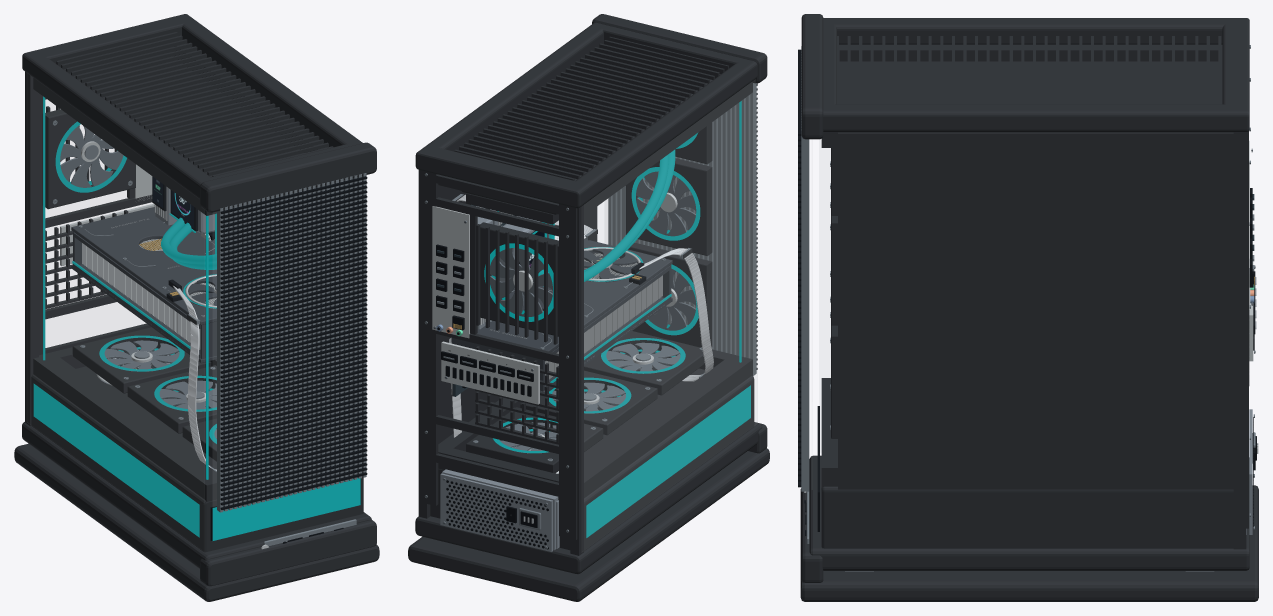
Rendered from showcase92-stealth.glb.
3 views of the same model, side by side, from view 1: azimuth 30°, elevation 25°; view 2: azimuth 150°, elevation 25°; view 3: azimuth 270°, elevation 25° (orthographic). The views are drawn at different scales.
Visible parts, largest first — view 1: s83-surface-44a6985b-c14b-43e6-8af2-84a97b06a821, s83-surface-48ced353-55f2-4abd-bf50-ffc865df163e, s83-fan-11, s83-fan-8, s83-fan-9, s83-fan-4, s83-surface-2fc91529-6f33-4e44-a186-73924e65df84; view 2: s83-surface-44a6985b-c14b-43e6-8af2-84a97b06a821, s83-surface-b59e28b9-7a2c-4e11-b53a-ddb55e978ee2, s83-surface-48ced353-55f2-4abd-bf50-ffc865df163e, s83-fan-13, s83-fan-11, s83-fan-10, s83-fan-12, s83-fan-4, s83-fan-9; view 3: s83-surface-44a6985b-c14b-43e6-8af2-84a97b06a821.
Boxes of the visible parts, x1,y1,x2,y2 form: s83-surface-44a6985b-c14b-43e6-8af2-84a97b06a821: [14, 14, 379, 601]; s83-surface-48ced353-55f2-4abd-bf50-ffc865df163e: [33, 96, 360, 540]; s83-fan-11: [60, 125, 123, 187]; s83-fan-8: [104, 340, 179, 371]; s83-fan-9: [159, 380, 216, 411]; s83-fan-4: [185, 276, 216, 308]; s83-surface-2fc91529-6f33-4e44-a186-73924e65df84: [171, 190, 194, 228]; s83-surface-44a6985b-c14b-43e6-8af2-84a97b06a821: [408, 14, 769, 601]; s83-surface-b59e28b9-7a2c-4e11-b53a-ddb55e978ee2: [604, 83, 755, 375]; s83-surface-48ced353-55f2-4abd-bf50-ffc865df163e: [484, 101, 750, 537]; s83-fan-13: [636, 171, 696, 236]; s83-fan-11: [490, 248, 552, 316]; s83-fan-10: [606, 342, 680, 373]; s83-fan-12: [649, 268, 696, 330]; s83-fan-4: [584, 248, 638, 282]; s83-fan-9: [552, 382, 625, 413]; s83-surface-44a6985b-c14b-43e6-8af2-84a97b06a821: [798, 14, 1258, 601].
Size of the model in its own units: 1.32 by 3 by 2.54.
Materials: 22 (21 with a texture image).
